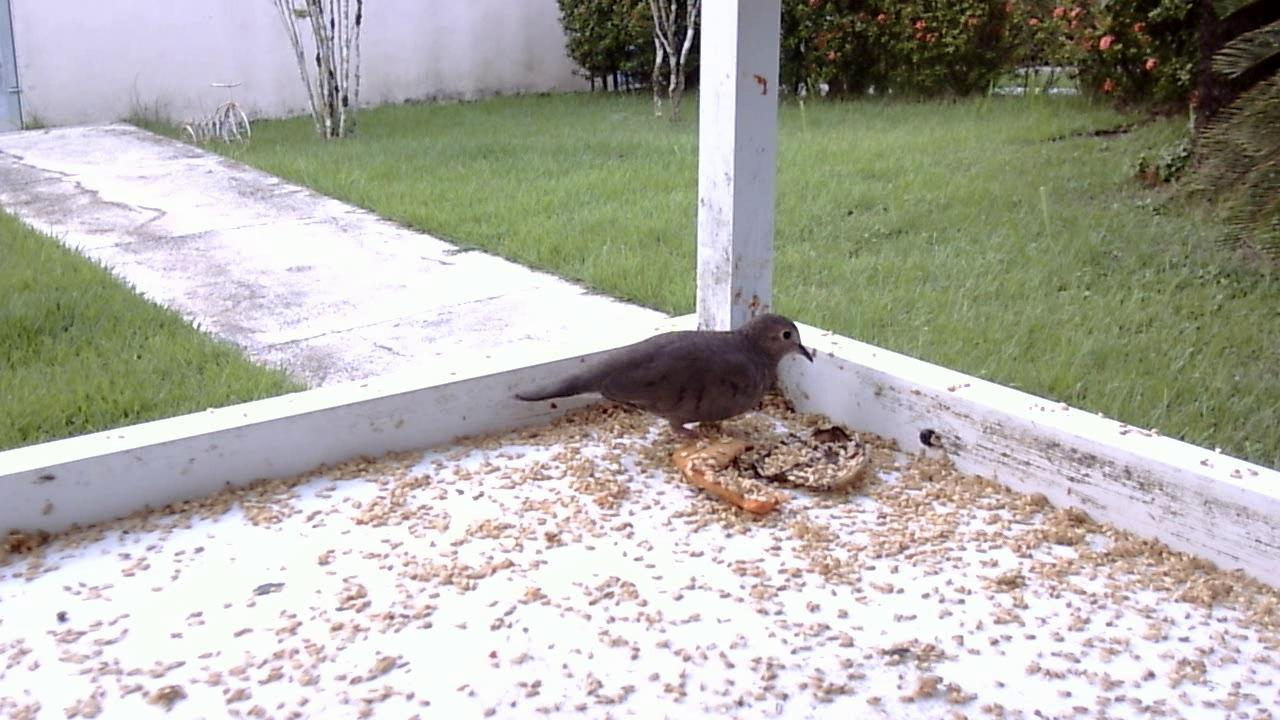rolinha: (504, 307, 816, 445)
